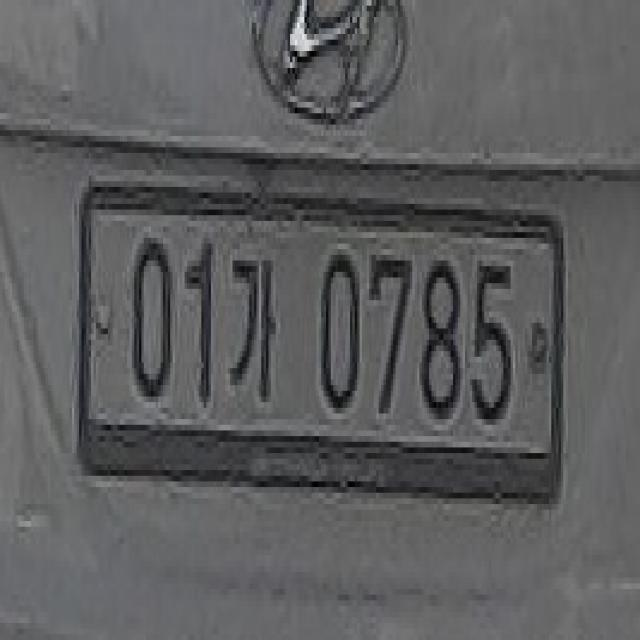0: (311, 232, 364, 428), (133, 240, 173, 396)
1: (181, 235, 219, 416)
5: (467, 246, 522, 438)
7: (366, 236, 414, 434)
8: (417, 246, 467, 432)
ga: (224, 234, 282, 417)
license_plate: (84, 195, 560, 476)
